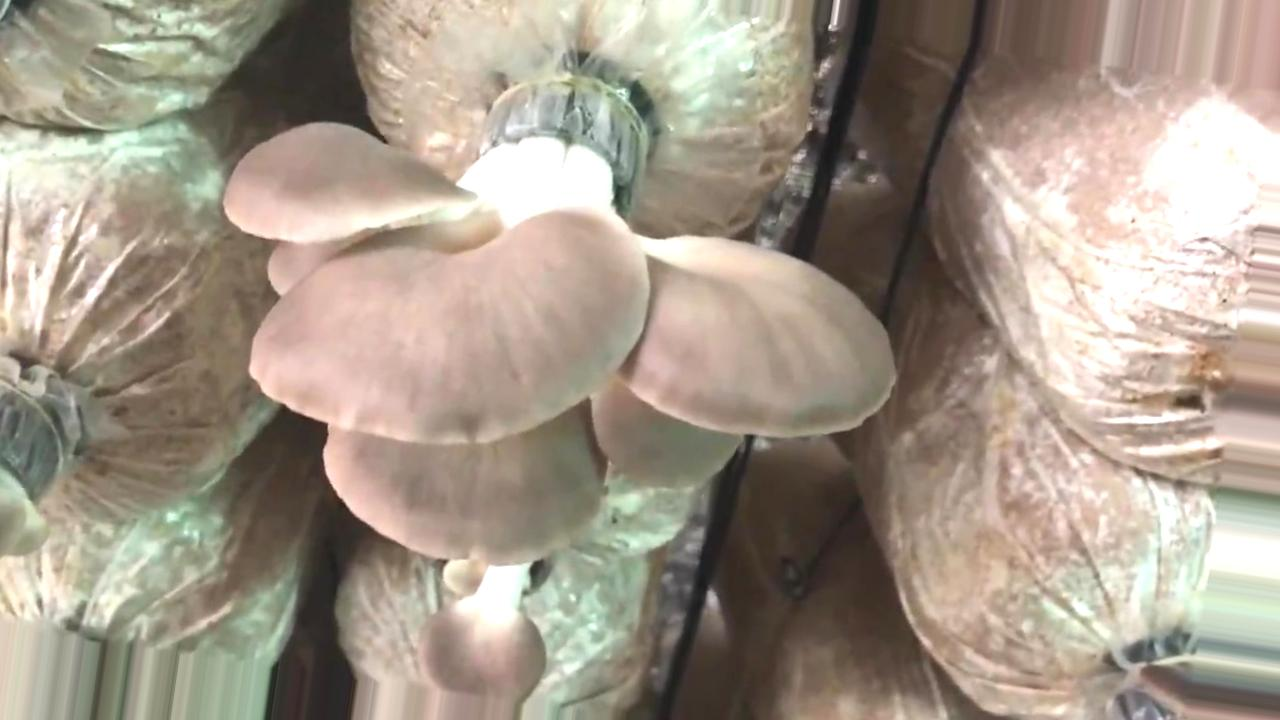nam: (227, 79, 892, 568), (420, 548, 549, 720), (1, 385, 60, 552)
